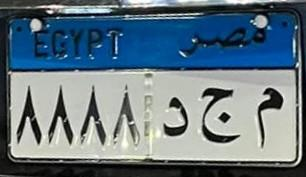8: (111, 81, 143, 150), (79, 85, 111, 147), (45, 85, 76, 146), (14, 85, 43, 144)
daal: (160, 94, 194, 140)
jeem: (198, 84, 241, 149)
meem: (252, 82, 286, 150)
